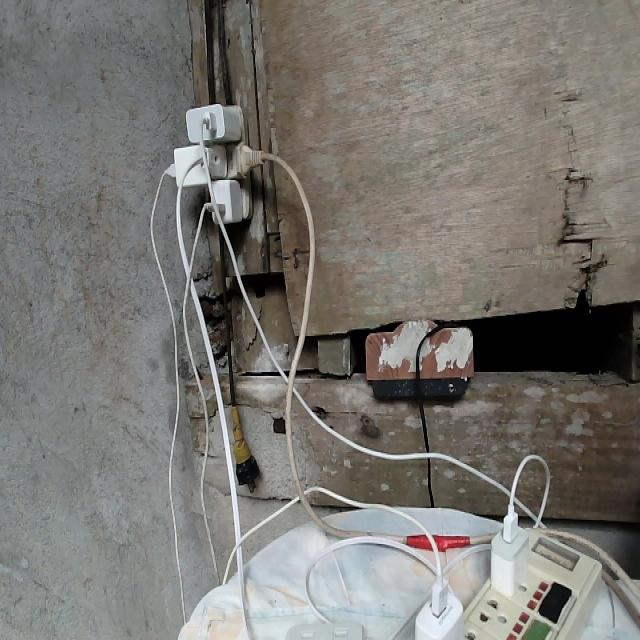-: (162, 98, 263, 230)
